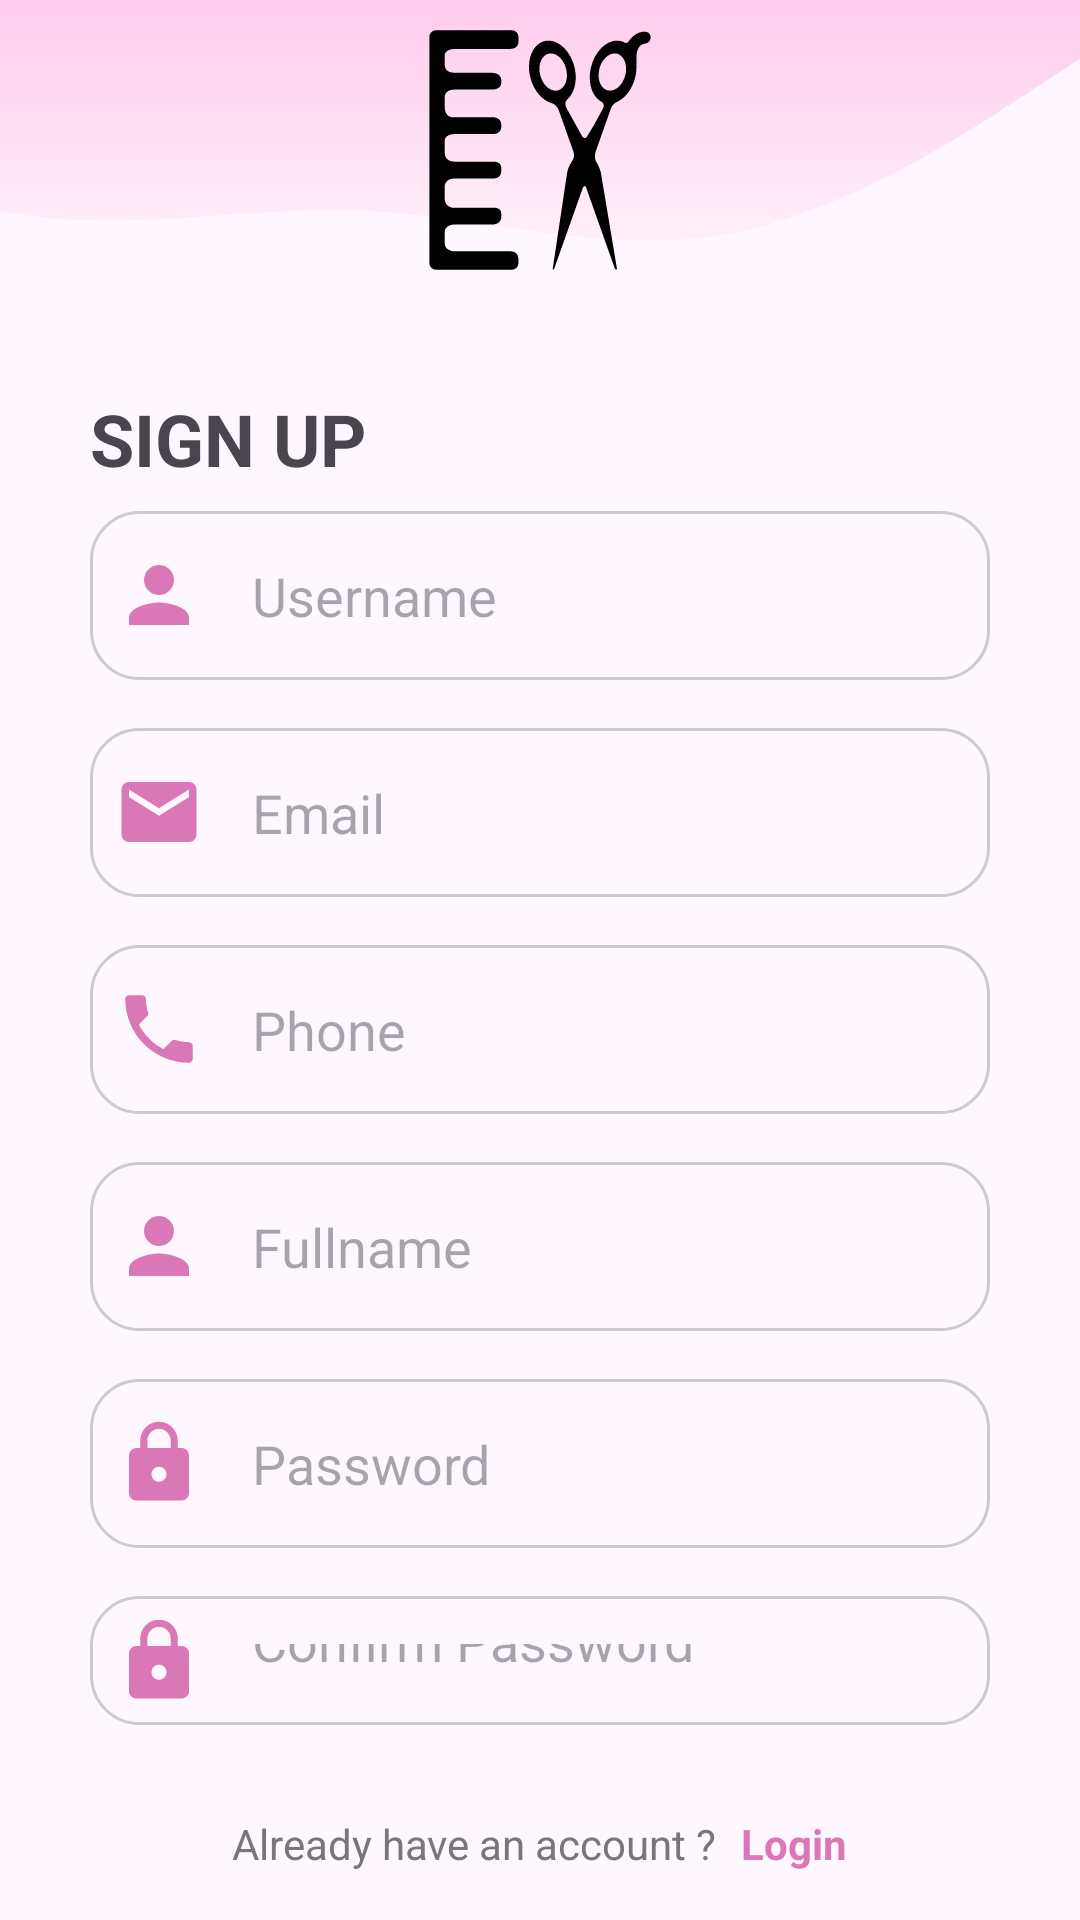

Point at icon controls on the screen. Image size 1080×1920, points as (x=x, y=y).
hair: (x=540, y=150)
lock: (x=159, y=1461), (x=159, y=1659)
person: (x=159, y=595), (x=159, y=1246)
